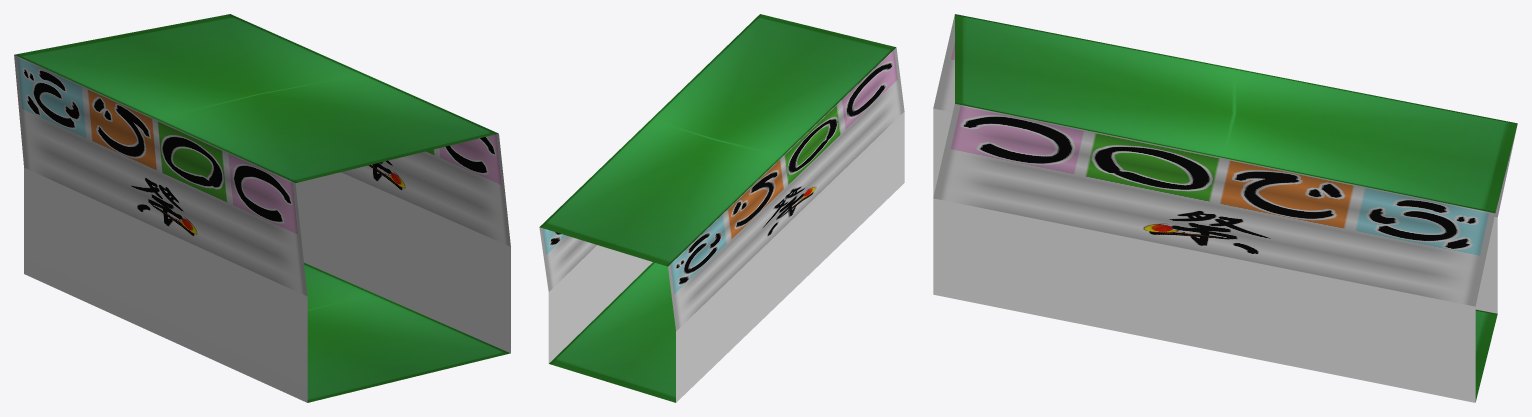
The picture shows the model from 3 angles, left to right: view 1: azimuth 30°, elevation 25°; view 2: azimuth 150°, elevation 25°; view 3: azimuth 270°, elevation 25°; orthographic projection. The views are drawn at different scales.
Parts seen in each view (by area): view 1: polySurface91; view 2: polySurface91; view 3: polySurface91.
Part boxes in pixels (x1,y1,x2,y2): polySurface91: (14, 14, 510, 402); polySurface91: (539, 14, 904, 402); polySurface91: (933, 14, 1517, 402).
Bounding box in the file's own units: 2.3 × 2.98 × 5.5.
